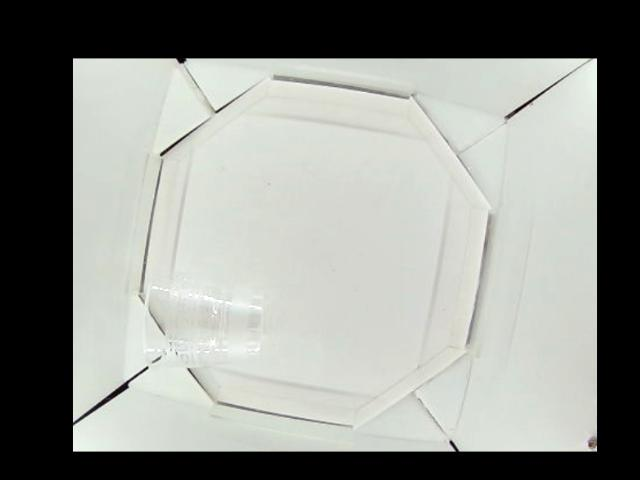Cup: (140, 281, 265, 376)
